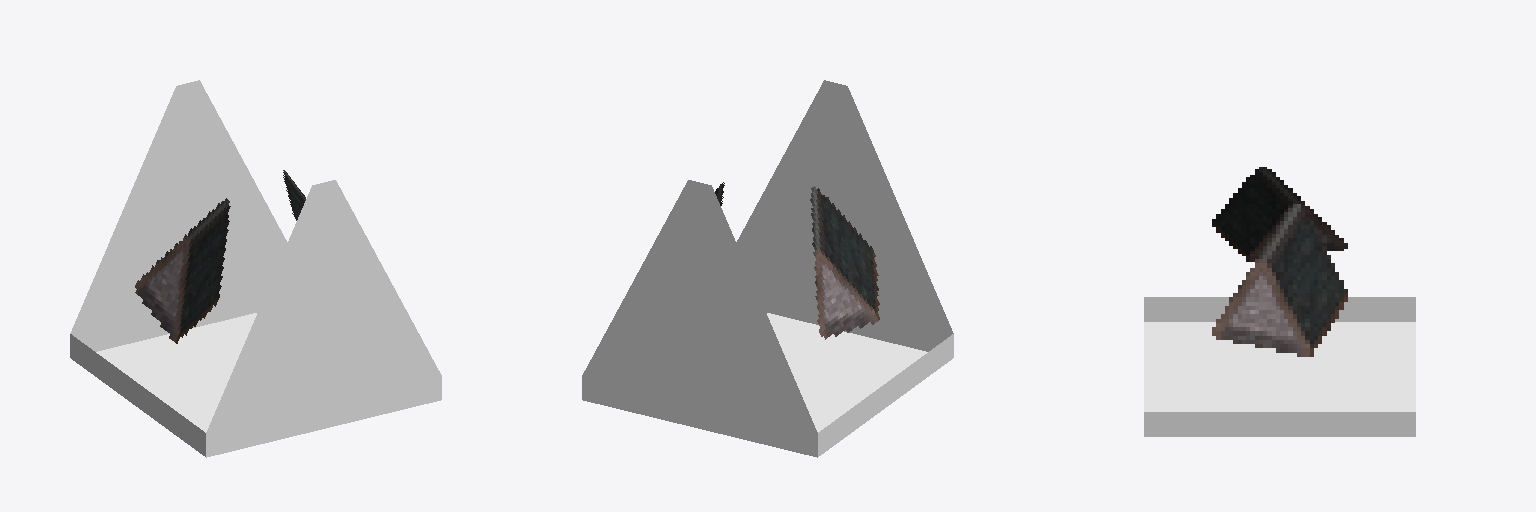
3 views of the same model, side by side, from view 1: azimuth 30°, elevation 25°; view 2: azimuth 150°, elevation 25°; view 3: azimuth 270°, elevation 25° (orthographic).
Visible parts, largest first — view 1: roof; view 2: roof; view 3: roof.
Boxes of the visible parts, x1=… form: roof: x1=70, y1=80, x2=441, y2=457; roof: x1=582, y1=80, x2=953, y2=457; roof: x1=1144, y1=167, x2=1415, y2=436.
Bounding box in the file's own units: 1 × 1 × 1.
Materials: 4 (1 with a texture image).